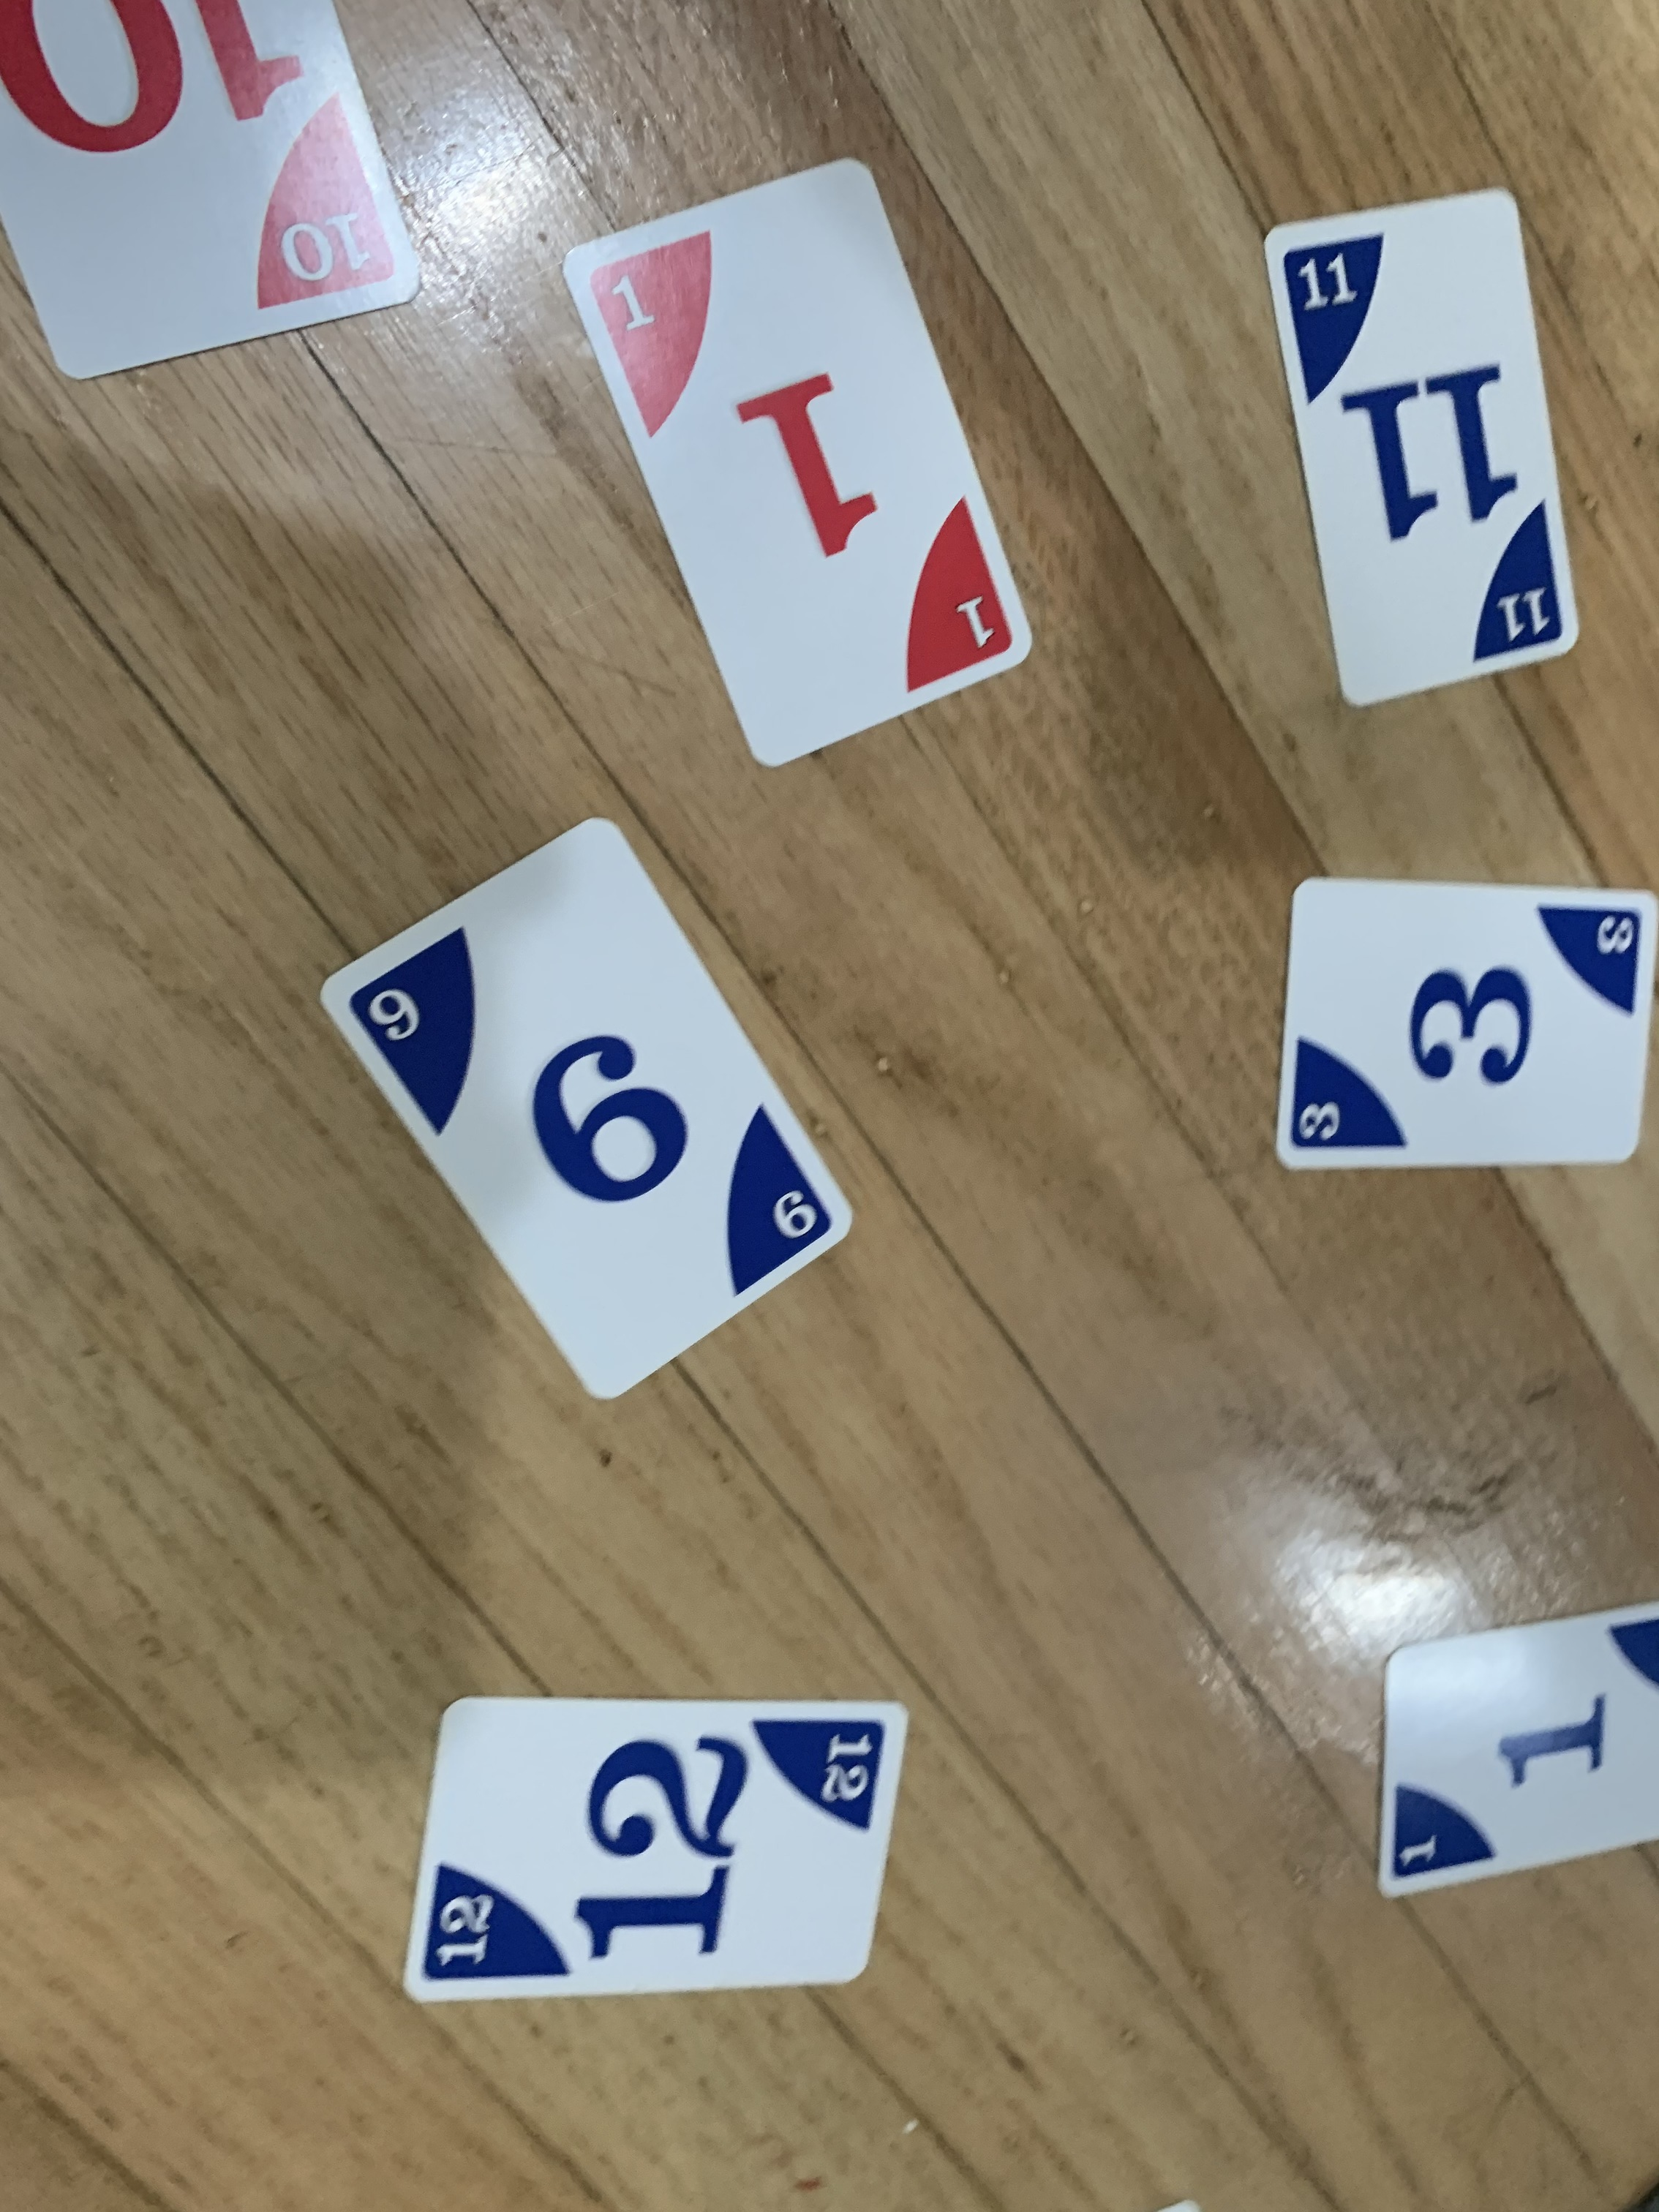six: (307, 806, 875, 1418)
three: (1265, 862, 1659, 1179)
twelve: (392, 1684, 917, 2000)
